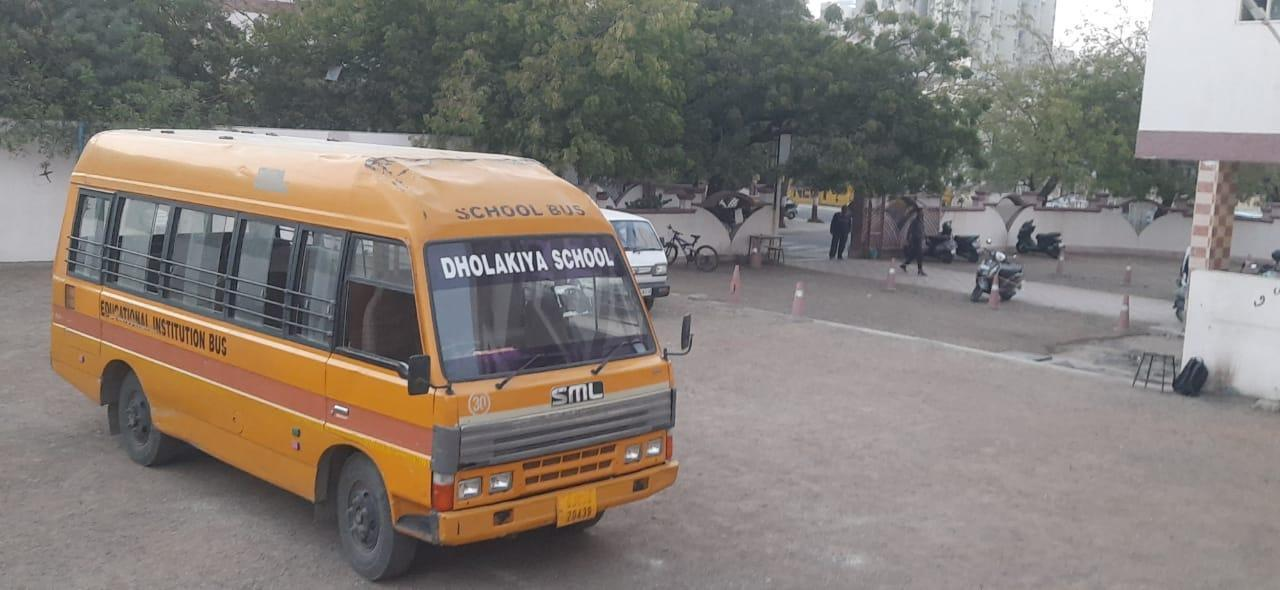Bus: (28, 100, 727, 578)
